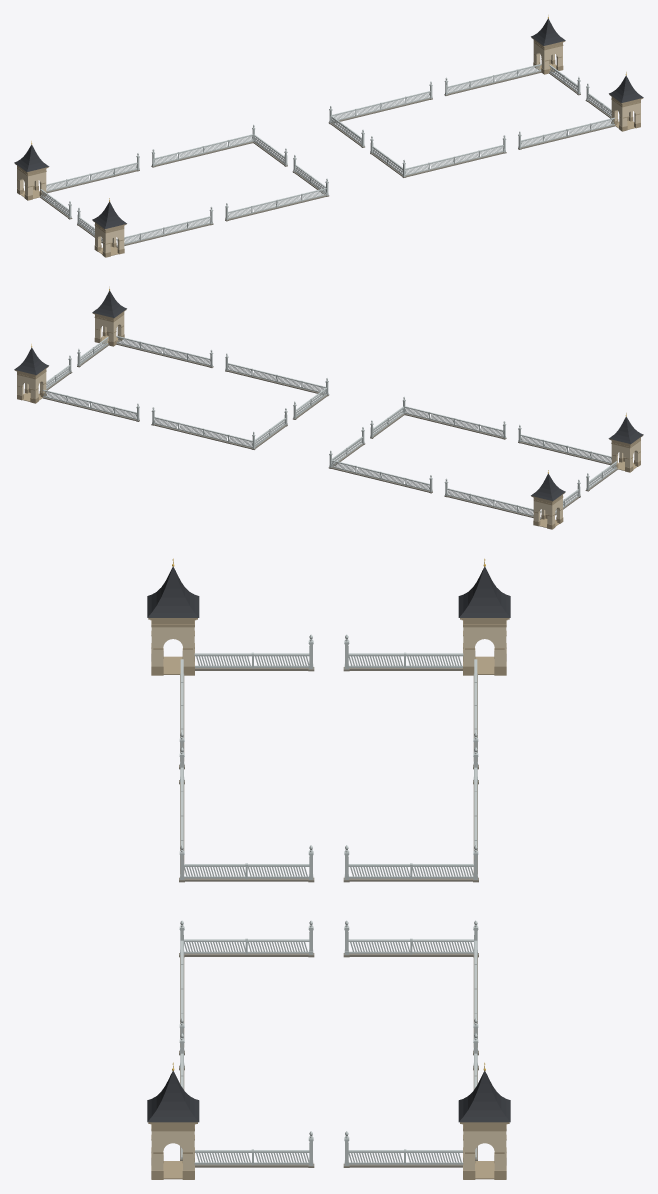
The model's file is garten_gelaender_quelle.glb.
The picture shows the model from 3 angles, top to bottom: view 1: azimuth 30°, elevation 25°; view 2: azimuth 150°, elevation 25°; view 3: azimuth 270°, elevation 25°; orthographic projection. The views are drawn at different scales.
Parts seen in each view (by area): view 1: fence_slats (×8), fence_rails (×8), pavilion_roof (×4); view 2: fence_slats (×8), fence_rails (×8), pavilion_roof (×4); view 3: pavilion_roof (×4), fence_slats (×4).
Part boxes in pixels (bbox=[...]): fence_slats (×8): bbox=[46, 65, 613, 243]; fence_rails (×8): bbox=[46, 64, 614, 246]; pavilion_roof (×4): bbox=[14, 18, 643, 228]; fence_slats (×8): bbox=[44, 337, 611, 515]; fence_rails (×8): bbox=[43, 336, 611, 518]; pavilion_roof (×4): bbox=[14, 290, 643, 500]; pavilion_roof (×4): bbox=[147, 567, 510, 1122]; fence_slats (×4): bbox=[184, 867, 473, 951].
Size of the model in its own units: 69.92 by 6.71 by 20.42.
